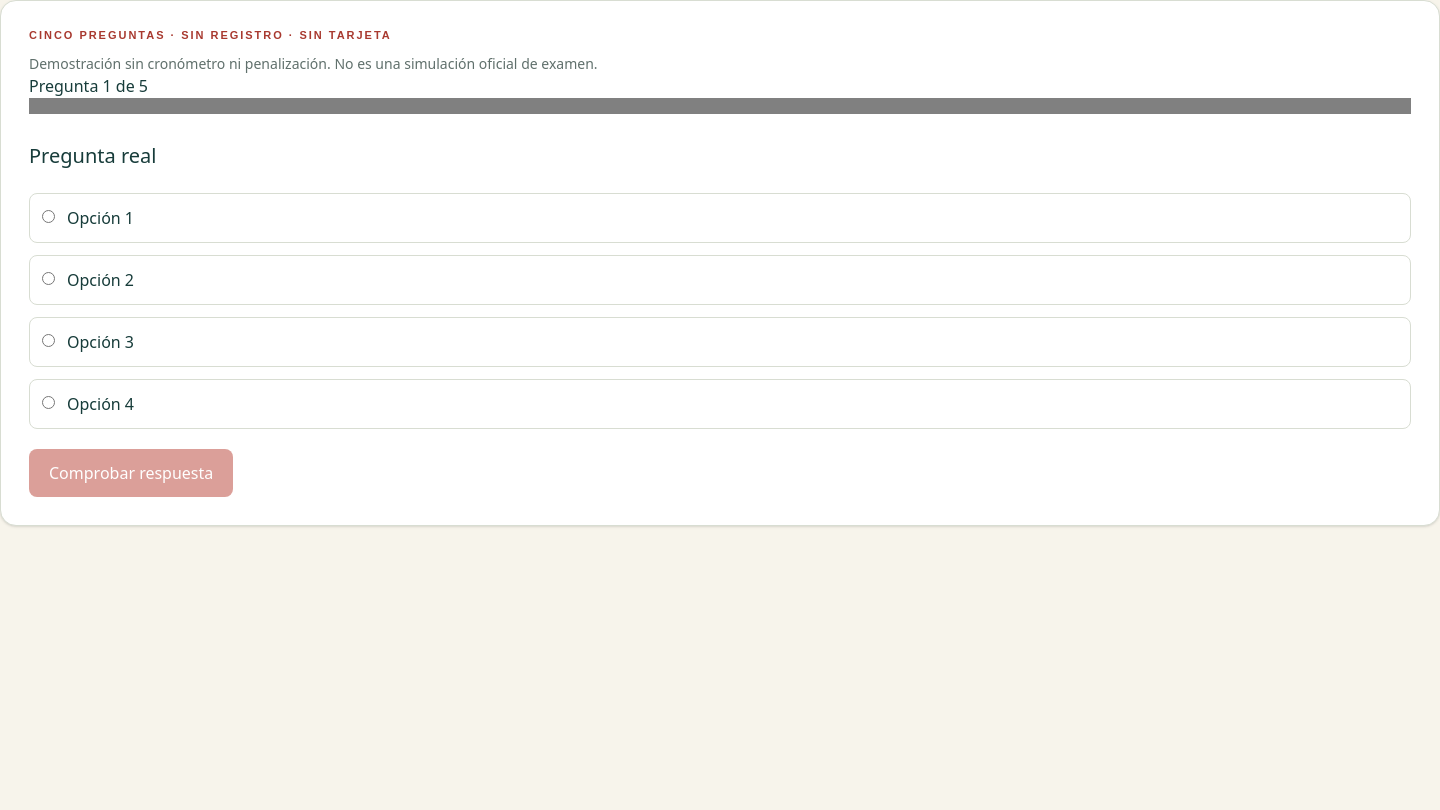
Test: free demonstration › retains the preview selection, prevents duplicate checks and preserves it on network failure
Click the radio button labelled "Opción 1" at [48, 216], box [42, 210, 55, 223]
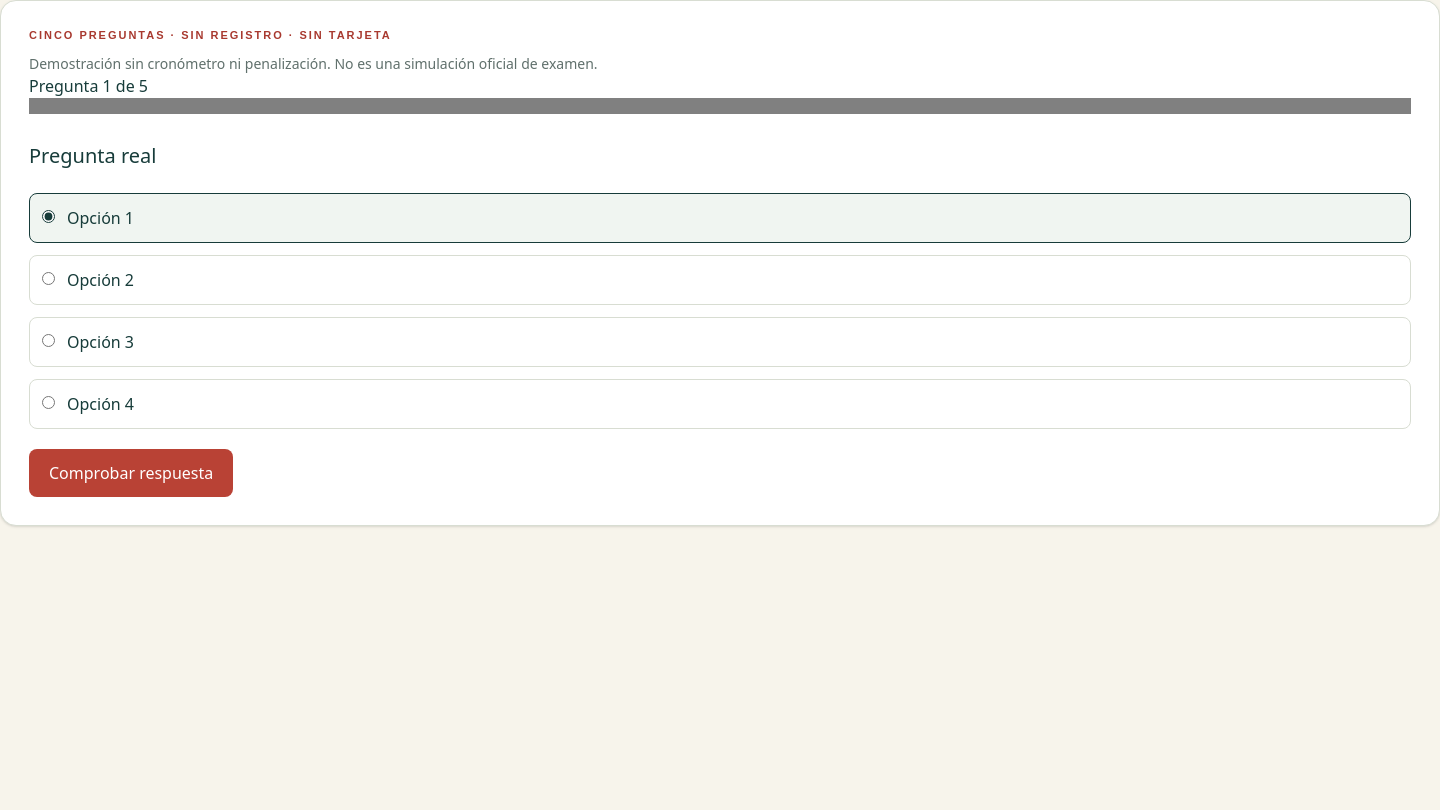
Click the button "Comprobar respuesta" at [131, 473], box [29, 449, 233, 497]
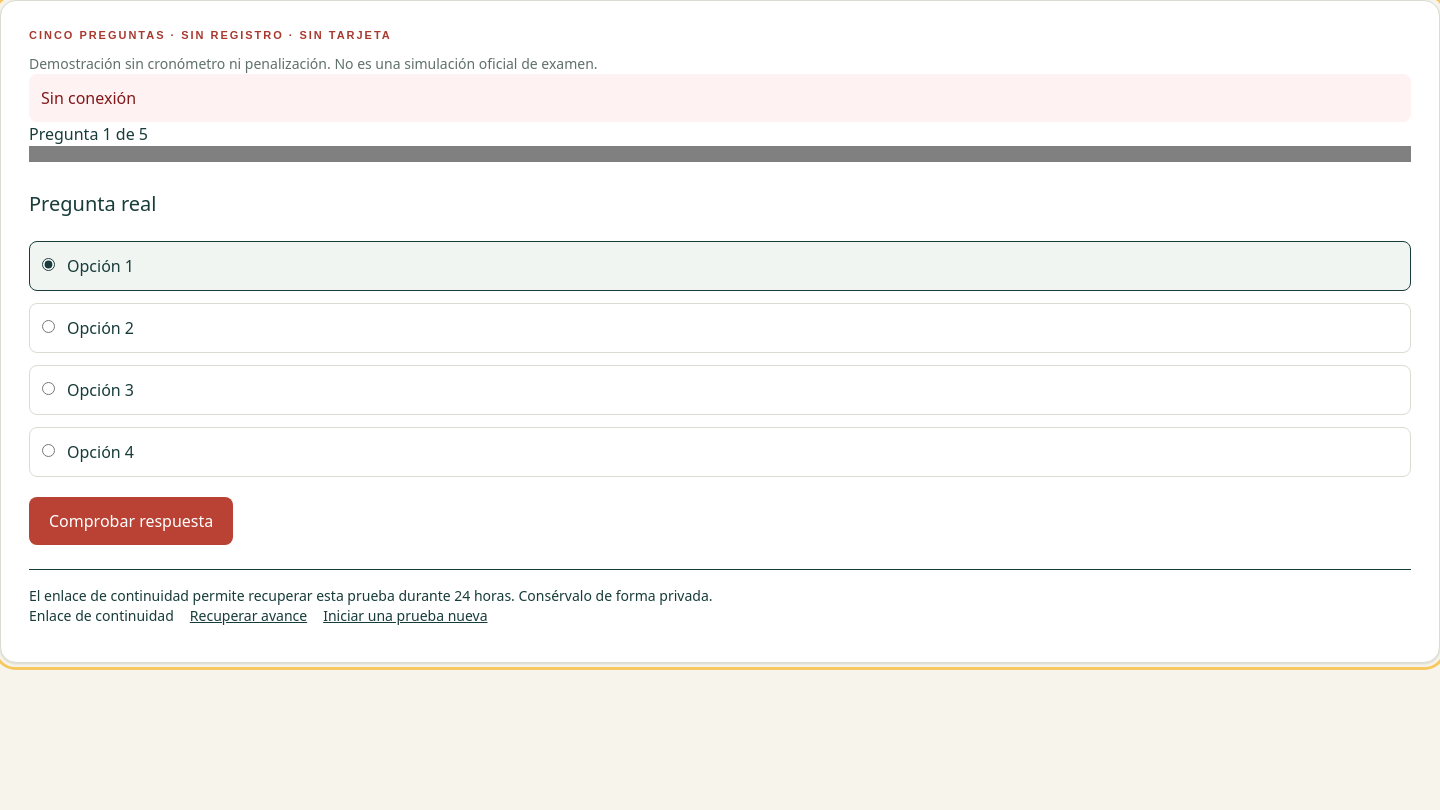
Expected: the radio button labelled "Opción 1" is checked, [42, 258, 55, 271]
Expected: the text "Sin conexión" is shown, [29, 74, 1411, 122]
Click the button "Comprobar respuesta" at [131, 521], box [29, 497, 233, 545]
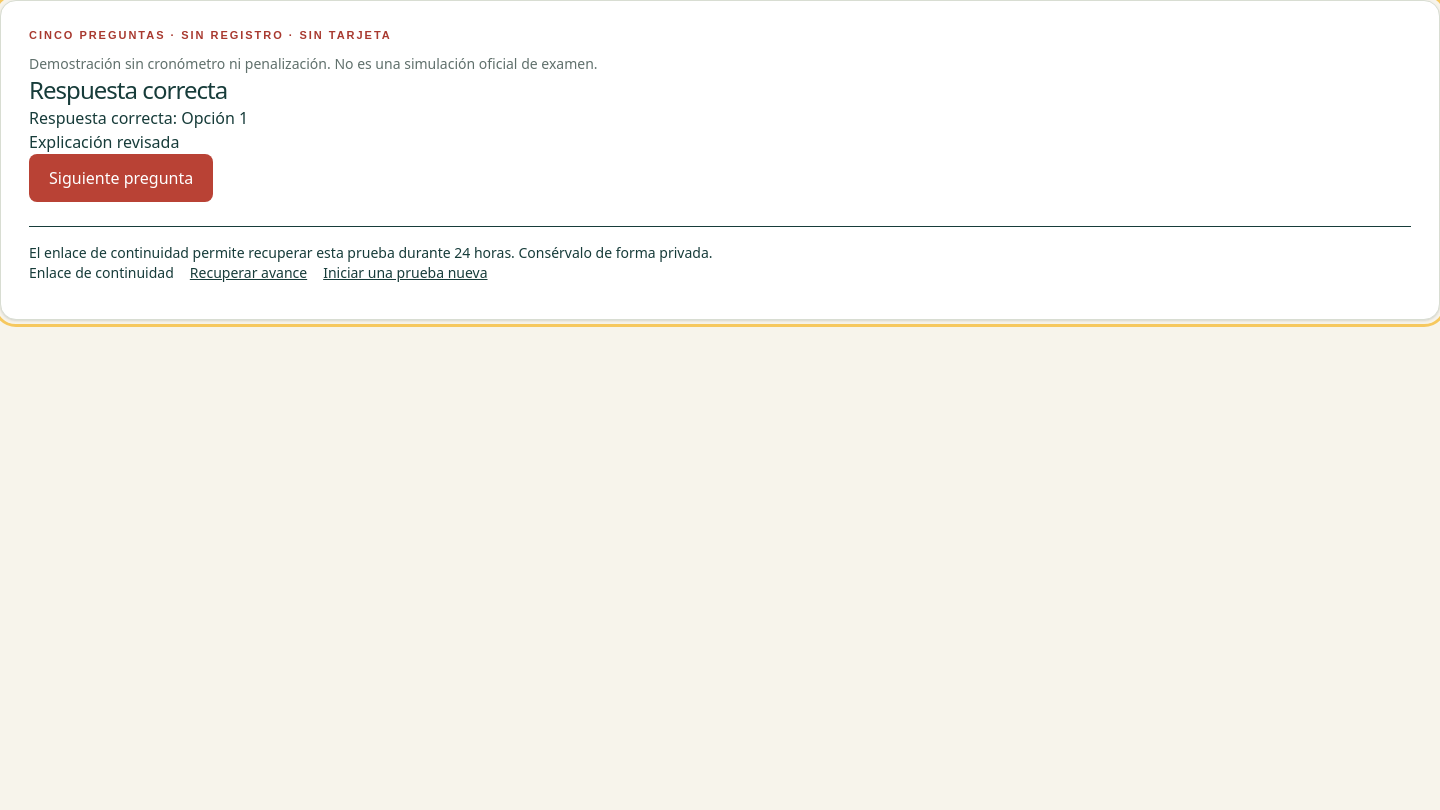
Expected: the text "Explicación revisada" is shown, [29, 131, 179, 153]
Expected: the radio button is gone
Click the button "Siguiente pregunta" at [121, 178], box [29, 154, 213, 202]
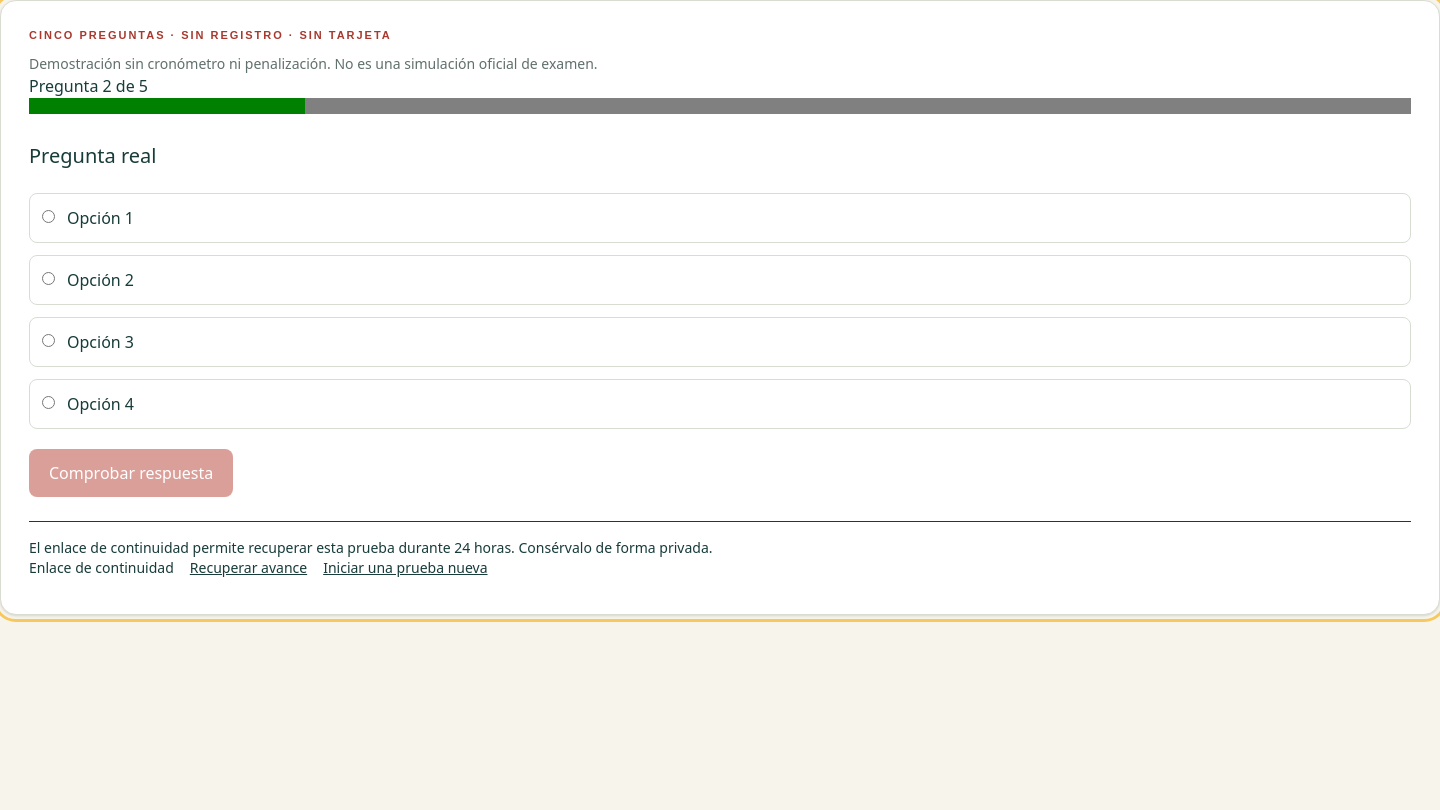
Expected: the text "Pregunta 2 de 5" is shown, [29, 75, 148, 97]
